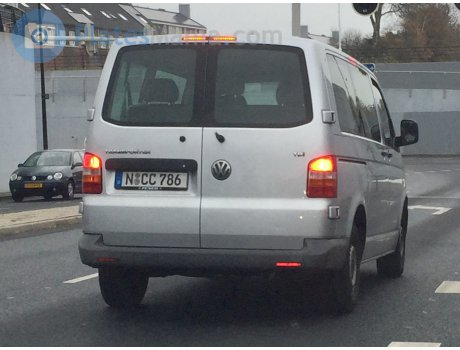License Plates: (123, 171, 178, 185)
